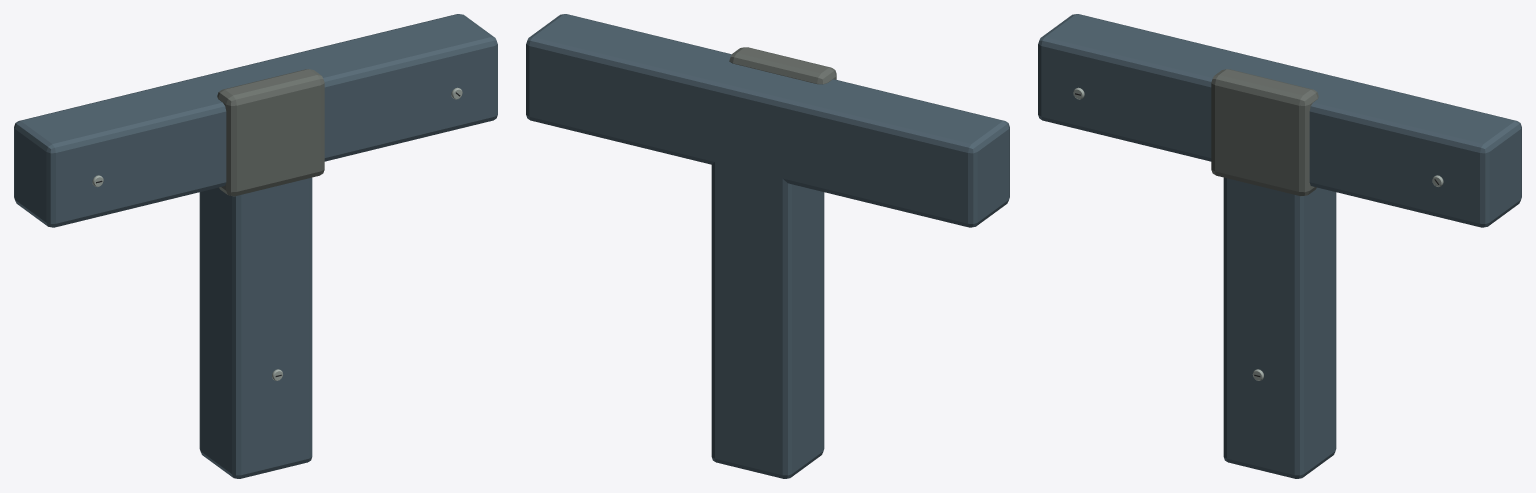
Rendered from CableTrunkingTee.fbx.
3 views of the same model, side by side, from view 1: azimuth 30°, elevation 25°; view 2: azimuth 150°, elevation 25°; view 3: azimuth 330°, elevation 25° (orthographic).
Visible parts, largest first — view 1: Horizontal channel.001, Vertical channel.001, Junction cover; view 2: Horizontal channel.001, Vertical channel.001, Junction cover; view 3: Horizontal channel.001, Vertical channel.001, Junction cover.
Boxes of the visible parts, x1,y1,x2,y2 form: Horizontal channel.001: [14, 14, 497, 227]; Vertical channel.001: [199, 177, 312, 478]; Junction cover: [217, 69, 324, 196]; Horizontal channel.001: [526, 14, 1009, 227]; Vertical channel.001: [711, 118, 824, 478]; Junction cover: [729, 47, 836, 84]; Horizontal channel.001: [1038, 14, 1521, 227]; Vertical channel.001: [1223, 177, 1336, 478]; Junction cover: [1211, 69, 1318, 196].
Size of the model in its own units: 0.52 by 0.4275 by 0.0845.
